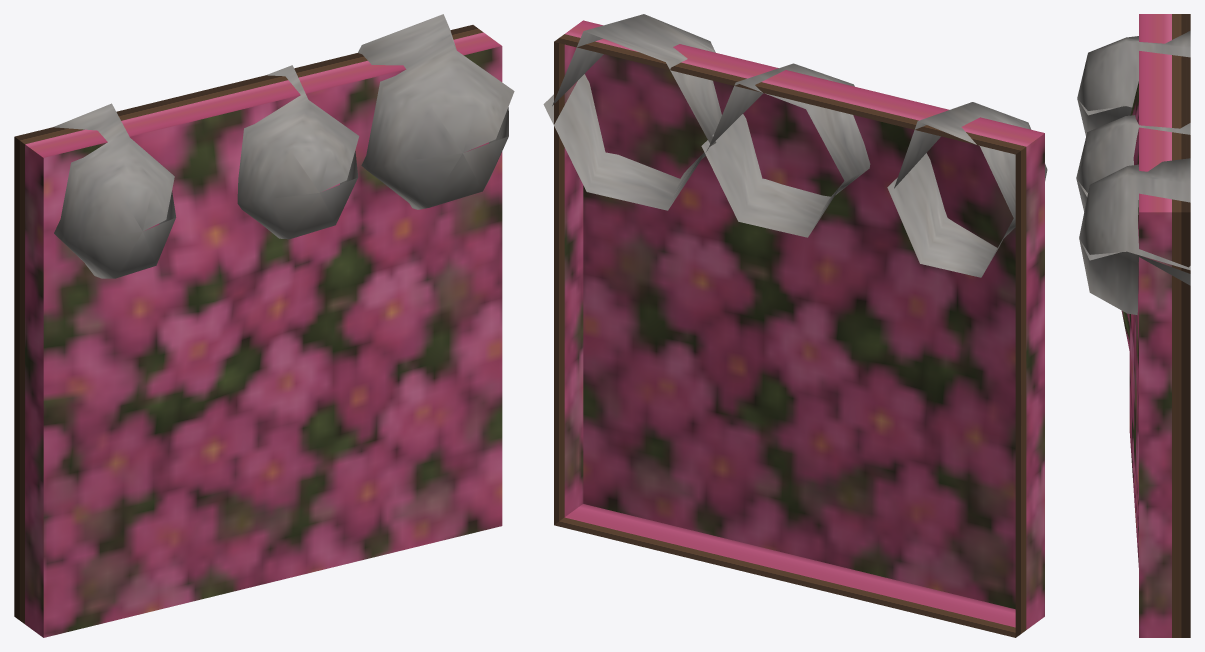
The model's file is keep-keep-bed-magenta-stones-s.obj.
3 views of the same model, side by side, from view 1: azimuth 30°, elevation 25°; view 2: azimuth 150°, elevation 25°; view 3: azimuth 270°, elevation 25° (orthographic). The views are drawn at different scales.
Visible parts, largest first — view 1: bed-magenta-stones-s; view 2: bed-magenta-stones-s; view 3: bed-magenta-stones-s.
Boxes of the visible parts, bbox=[...] form: bed-magenta-stones-s: bbox=[14, 14, 514, 637]; bed-magenta-stones-s: bbox=[543, 14, 1047, 637]; bed-magenta-stones-s: bbox=[1076, 14, 1190, 637].
Bounding box in the file's own units: 1.02 × 1.04 × 0.2439.
1 material, 1 textured.
